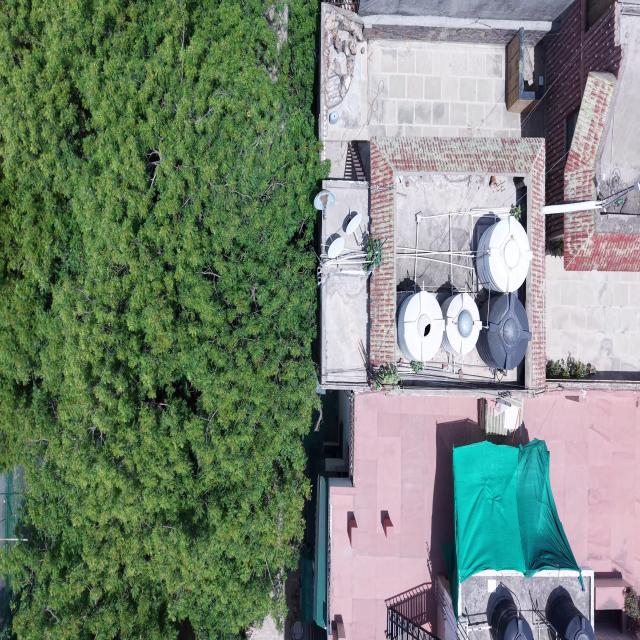ROOFTOP_BUILDING: (319, 0, 639, 639), (319, 4, 545, 395), (319, 0, 639, 204), (320, 137, 545, 394), (493, 391, 639, 639), (547, 193, 639, 386)
VEGETATION_TREE: (0, 0, 323, 639), (547, 354, 595, 379), (370, 363, 401, 389), (623, 587, 639, 637), (624, 588, 639, 620)
